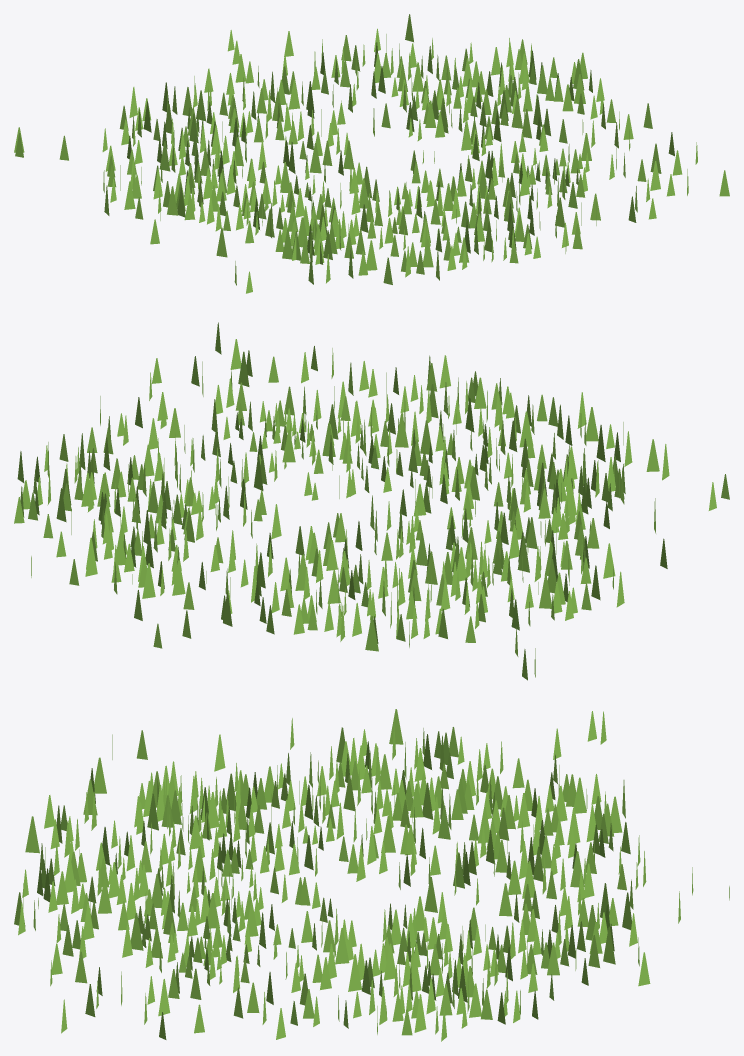
File: grass-g0022.fbx
3 renders of one model, top to bottom at view 1: azimuth 30°, elevation 25°; view 2: azimuth 150°, elevation 25°; view 3: azimuth 270°, elevation 25°, orthographic. The views are drawn at different scales.
Bounding box in the file's own units: 1506 × 85.75 × 1503.
